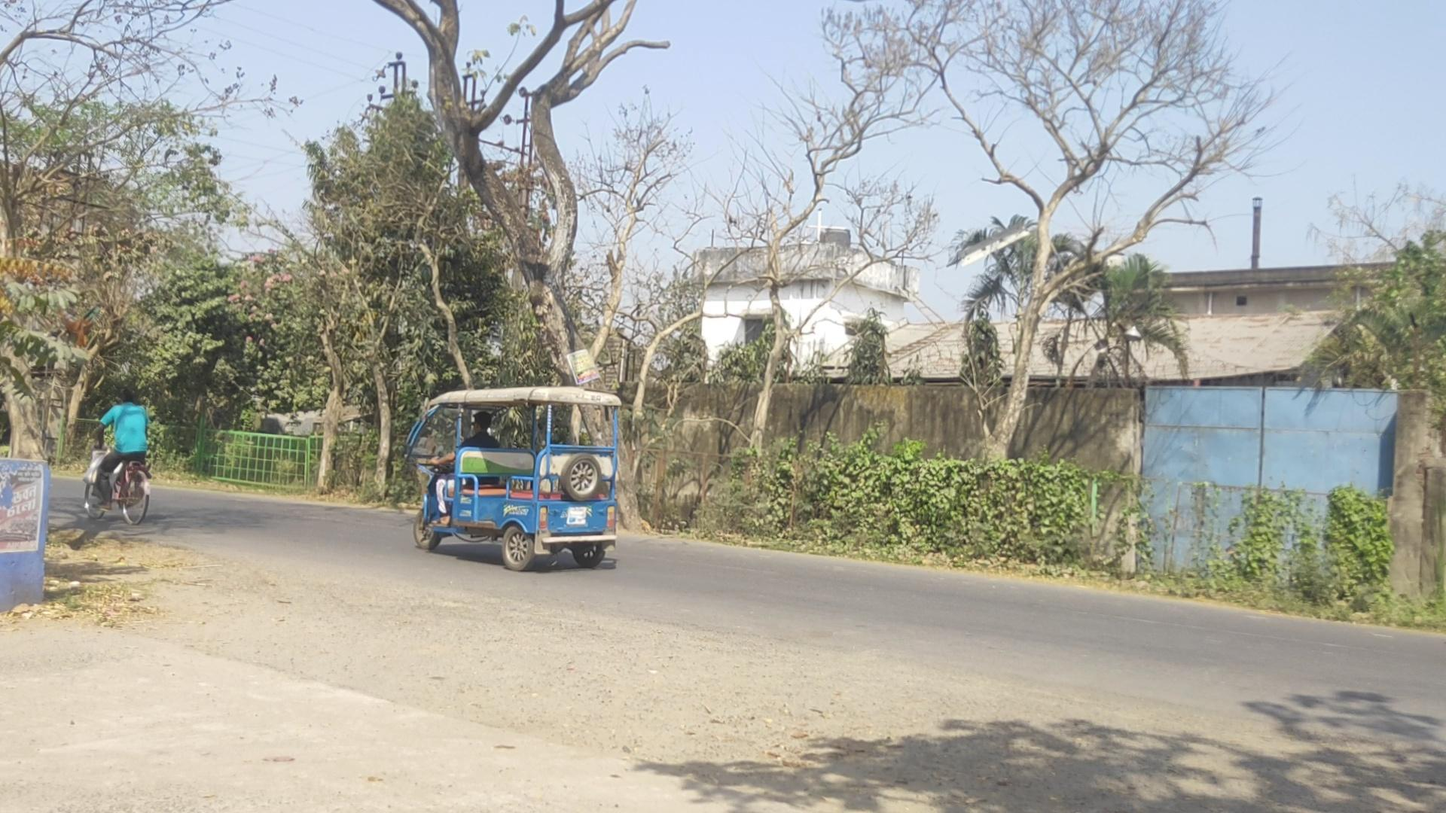Auto: (404, 386, 621, 571)
bike: (82, 388, 151, 526)
